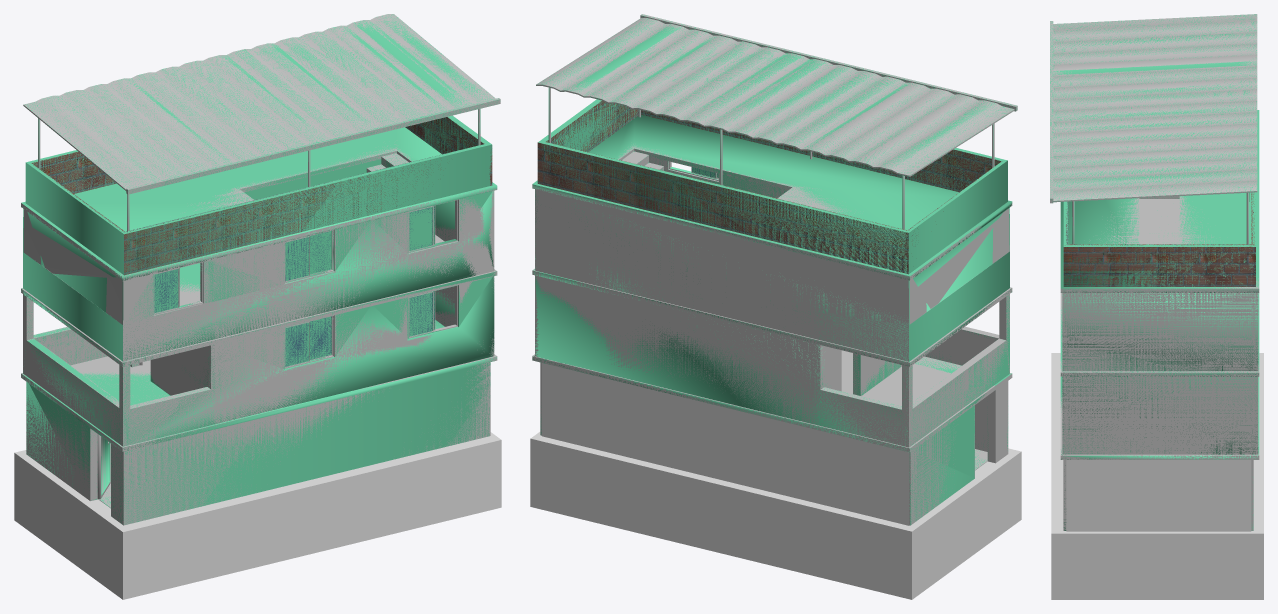
The model's file is CASA 13.fbx.
3 renders of one model, left to right at view 1: azimuth 30°, elevation 25°; view 2: azimuth 150°, elevation 25°; view 3: azimuth 270°, elevation 25°, orthographic. The views are drawn at different scales.
Parts seen in each view (by area): view 1: UTM_CASA13, Casa13_LOD0, Cube_LOD0; view 2: Casa13_LOD0, UTM_CASA13, Cube_LOD0, OCC_Oclusion1; view 3: Casa13_LOD0, UTM_CASA13, Cube_LOD0, OCC_Oclusion2.
Part boxes in pixels (box(x1,y1,x2,y2)): UTM_CASA13: box(21, 14, 500, 524); Casa13_LOD0: box(21, 14, 500, 525); Cube_LOD0: box(14, 432, 501, 599); Casa13_LOD0: box(532, 14, 1017, 525); UTM_CASA13: box(532, 14, 1017, 525); Cube_LOD0: box(530, 432, 1021, 599); OCC_Oclusion1: box(542, 363, 909, 525); Casa13_LOD0: box(1050, 14, 1259, 530); UTM_CASA13: box(1050, 14, 1259, 530); Cube_LOD0: box(1051, 353, 1263, 599); OCC_Oclusion2: box(1066, 460, 1251, 531).
Size of what is drawn, in the model's own units: 1171 by 1235 by 585.
